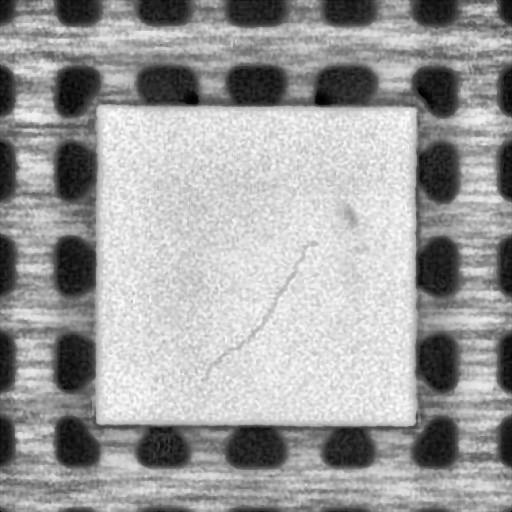DIE_CRACK: (206, 238, 314, 374)
